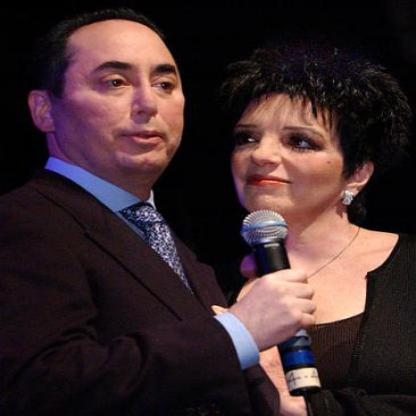face: (51, 14, 199, 176), (222, 68, 357, 222)
